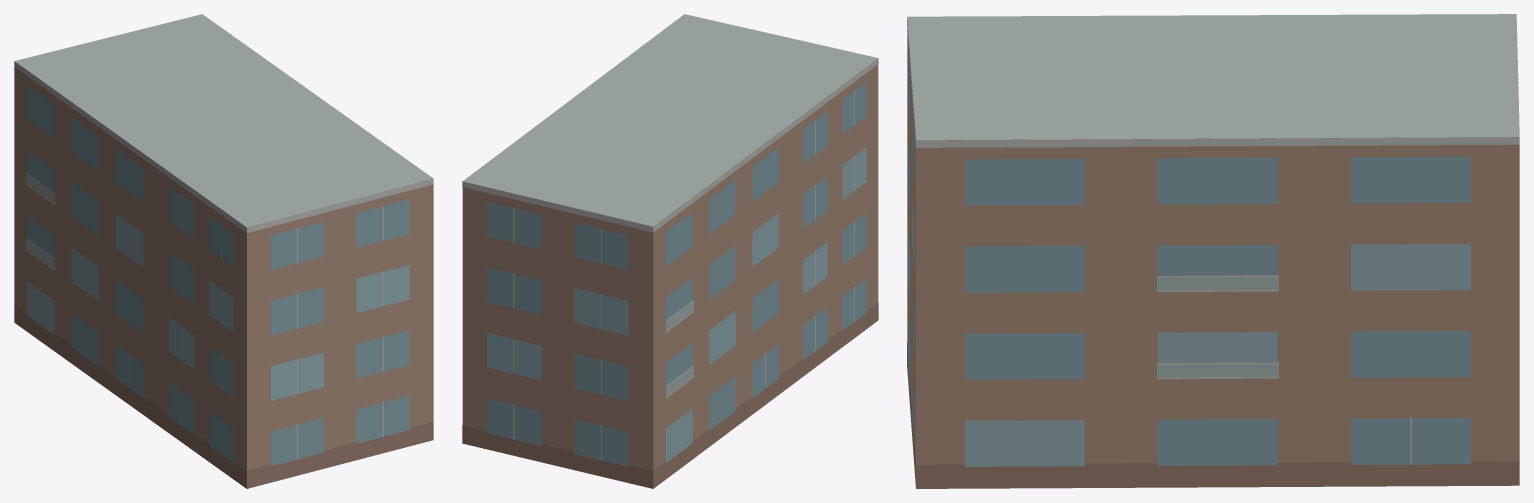
File: survey-upis-32579451.glb
The picture shows the model from 3 angles, left to right: view 1: azimuth 30°, elevation 25°; view 2: azimuth 150°, elevation 25°; view 3: azimuth 270°, elevation 25°; orthographic projection. The views are drawn at different scales.
Visible parts, largest first — view 1: survey-upis-32579451.tmp; view 2: survey-upis-32579451.tmp; view 3: survey-upis-32579451.tmp.
Boxes of the visible parts, bbox=[...] form: survey-upis-32579451.tmp: bbox=[14, 14, 433, 488]; survey-upis-32579451.tmp: bbox=[462, 14, 878, 488]; survey-upis-32579451.tmp: bbox=[907, 14, 1519, 488].
Bounding box in the file's own units: 8.66 × 11.1 × 17.69.
